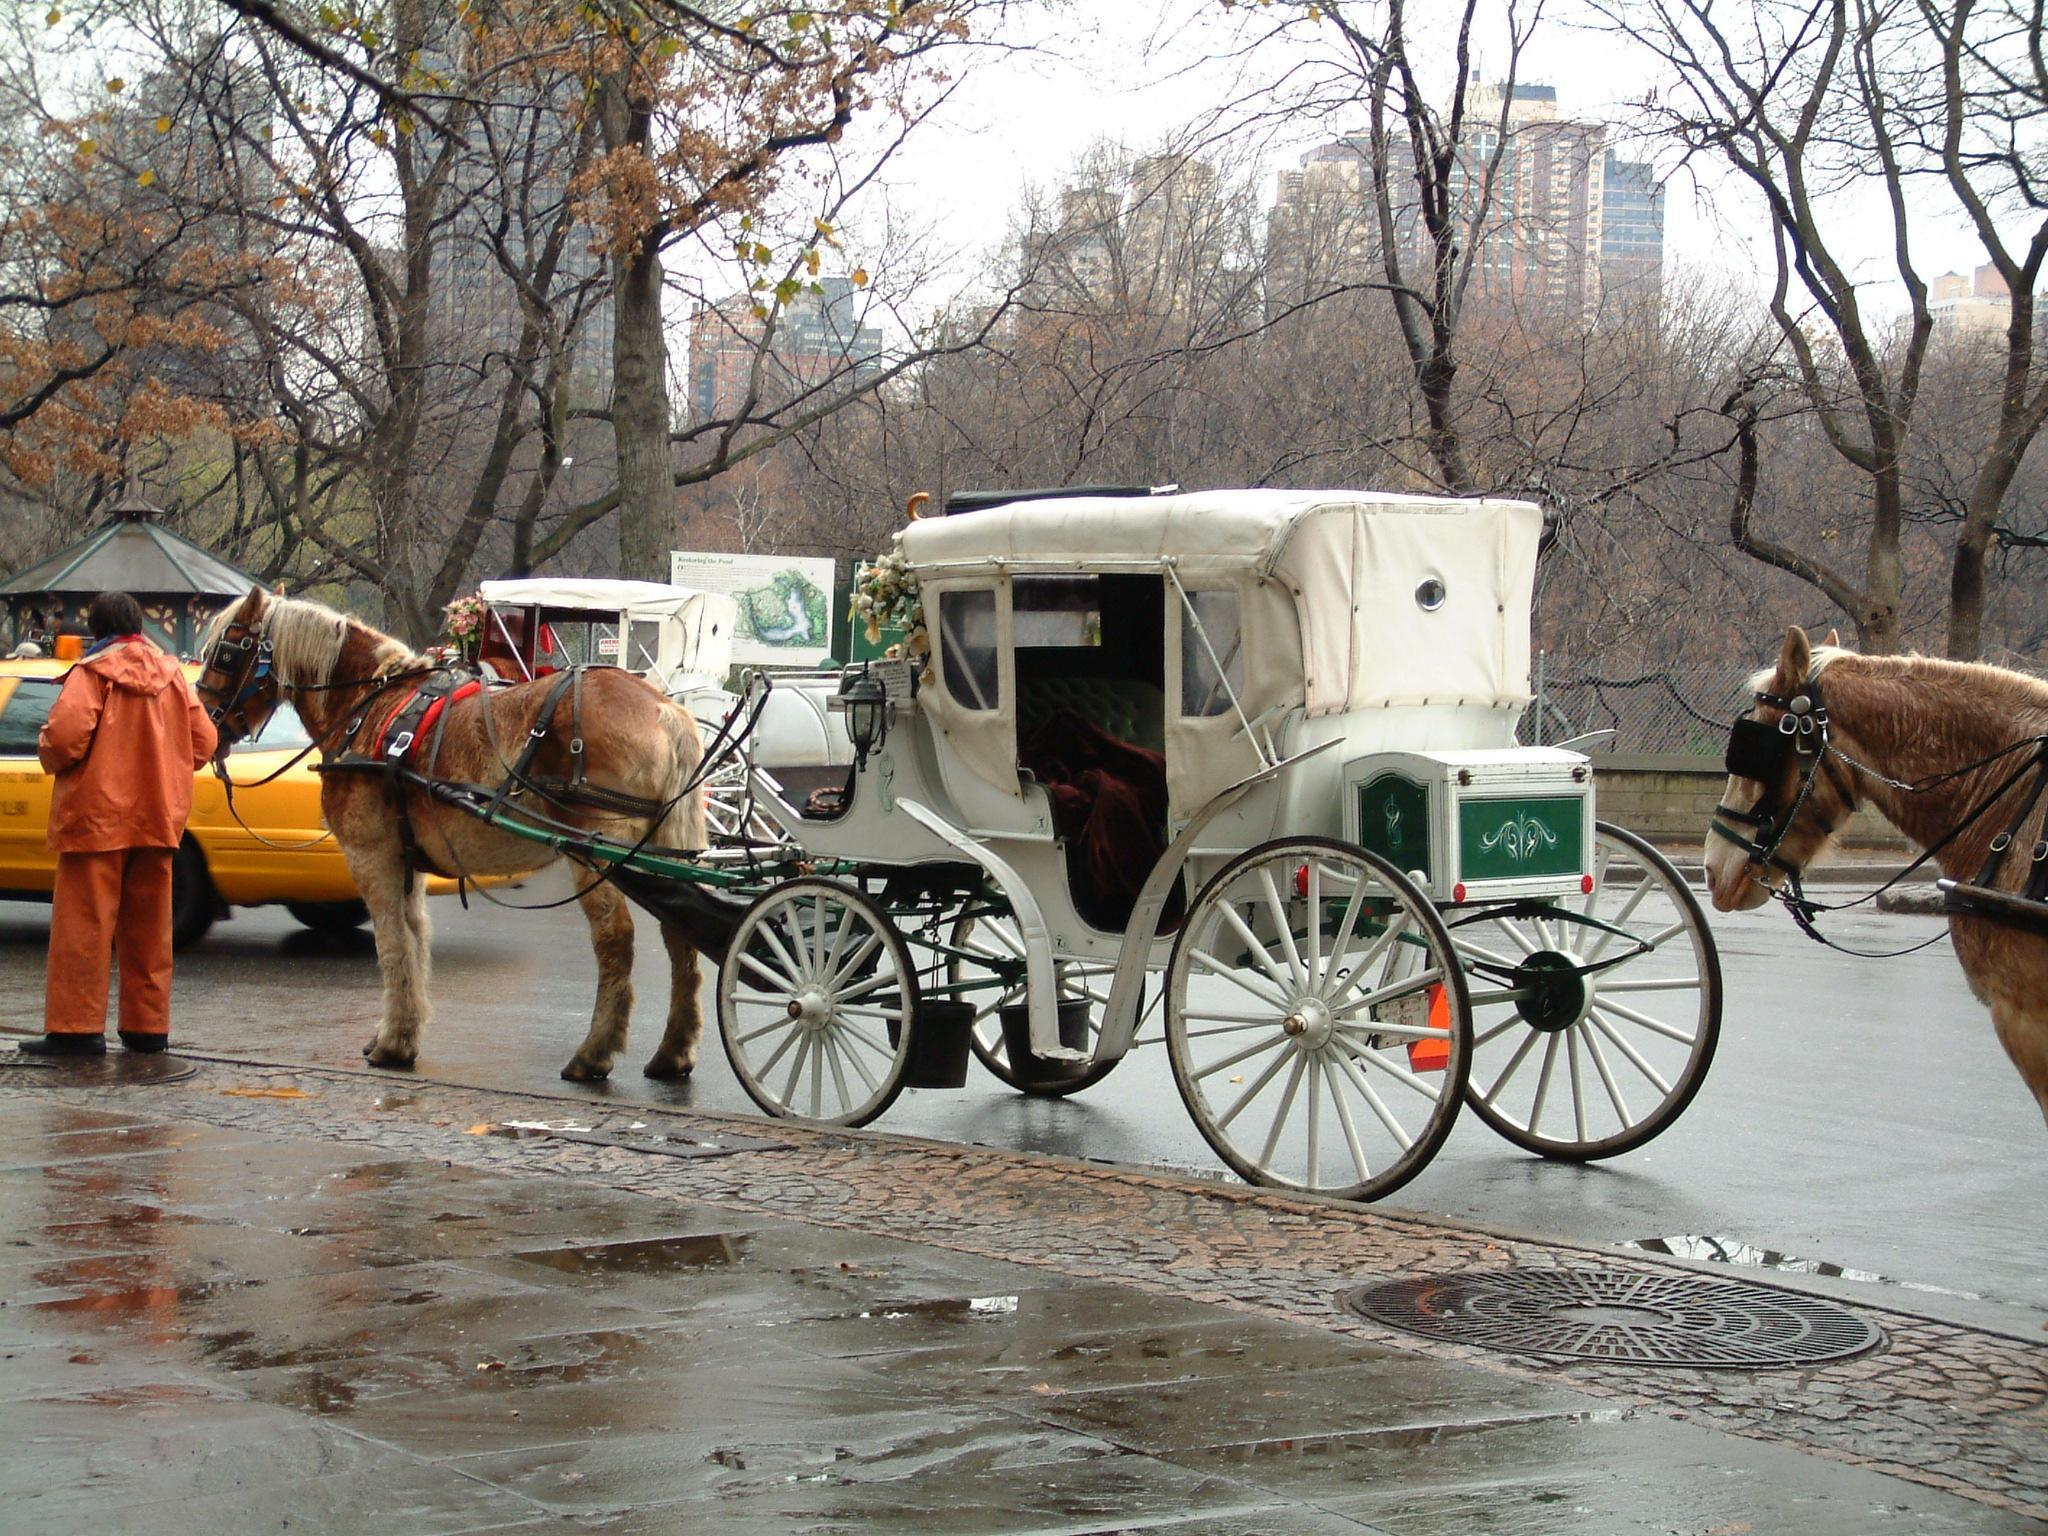horse: (190, 587, 713, 1087), (1696, 624, 2048, 1139)
